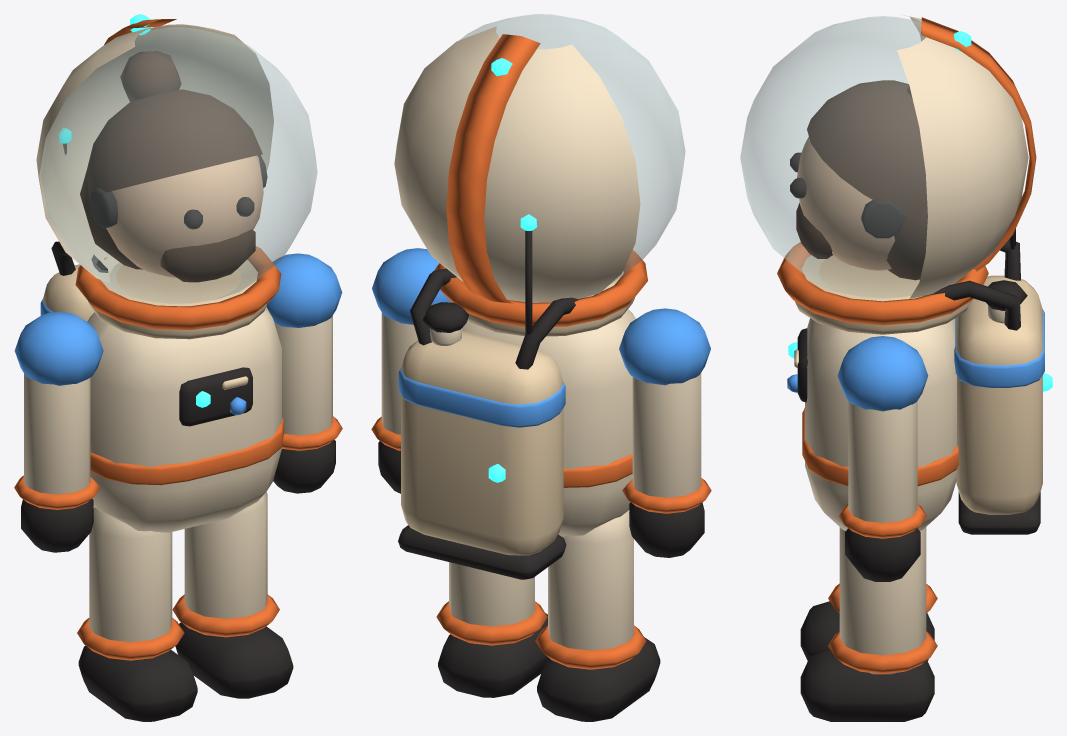
File: colonist.glb
3 views of the same model, side by side, from view 1: azimuth 30°, elevation 25°; view 2: azimuth 150°, elevation 25°; view 3: azimuth 270°, elevation 25° (orthographic). The views are drawn at different scales.
Visible parts, largest first — view 1: body, leg_r, arm_r, leg_l, arm_l, hair_bun, hair_full, beard; view 2: body, arm_r, leg_r, leg_l, stripe, arm_l, aerial; view 3: body, arm_l, leg_l, hair_bun, hair_full, stripe, leg_r, beard.
Part boxes in pixels (bbox=[...]): body: bbox=[36, 14, 317, 532]; leg_r: bbox=[77, 507, 197, 721]; arm_r: bbox=[14, 311, 103, 552]; leg_l: bbox=[172, 492, 293, 698]; arm_l: bbox=[266, 253, 342, 493]; hair_bun: bbox=[86, 51, 262, 190]; hair_full: bbox=[80, 89, 258, 269]; beard: bbox=[160, 229, 255, 282]; body: bbox=[394, 14, 685, 579]; arm_r: bbox=[619, 308, 711, 557]; leg_r: bbox=[535, 510, 660, 721]; leg_l: bbox=[436, 562, 548, 697]; stripe: bbox=[446, 34, 540, 303]; arm_l: bbox=[371, 248, 450, 493]; aerial: bbox=[520, 214, 537, 334]; body: bbox=[740, 15, 1052, 534]; arm_l: bbox=[837, 336, 928, 581]; leg_l: bbox=[800, 528, 937, 721]; hair_bun: bbox=[811, 80, 927, 214]; hair_full: bbox=[807, 80, 927, 280]; stripe: bbox=[921, 17, 1036, 271]; leg_r: bbox=[800, 527, 937, 660]; beard: bbox=[796, 203, 832, 258].
Bounding box in the file's own units: 0.864 × 1.7 × 0.7228.
